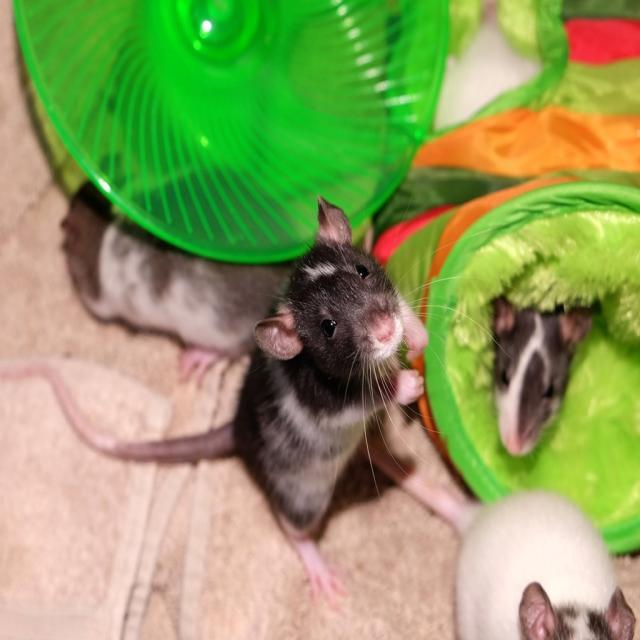rat: (0, 198, 432, 599), (62, 160, 330, 388), (358, 433, 634, 639), (486, 296, 603, 453)
